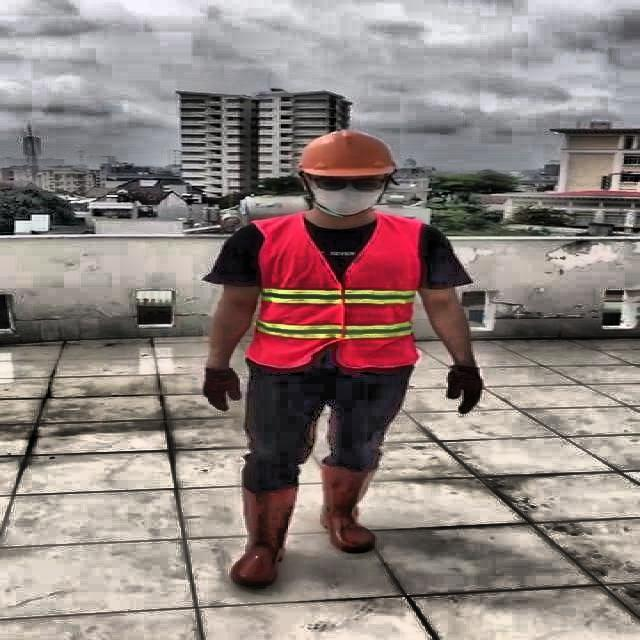safety_jacket: (256, 216, 418, 367)
